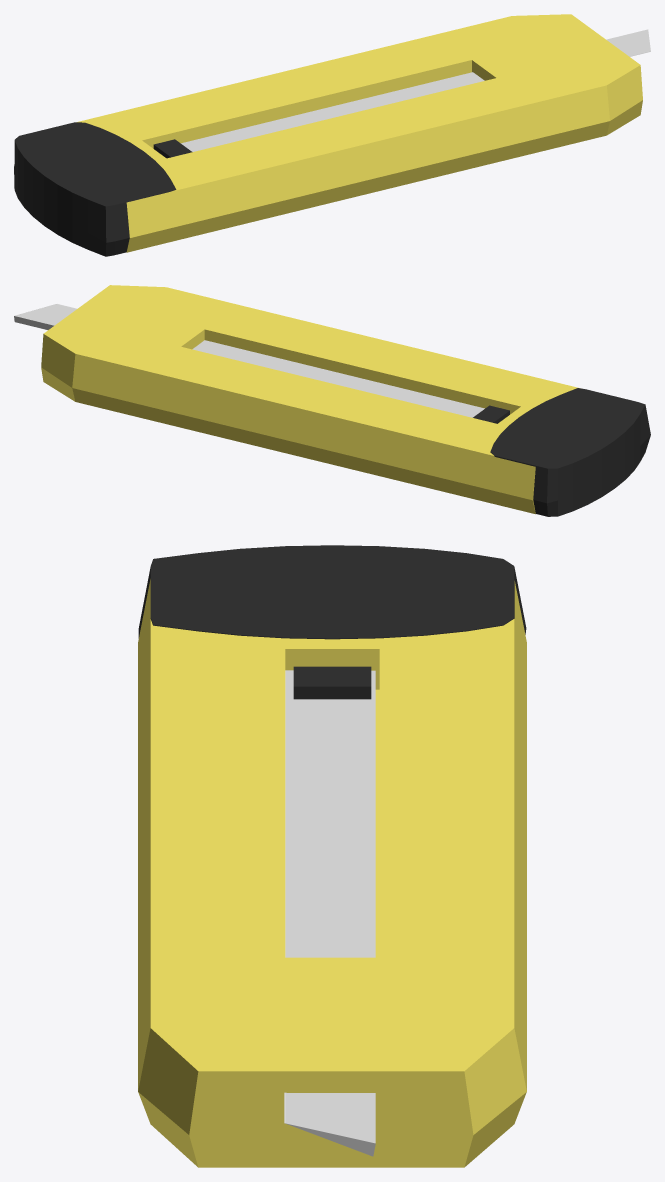
The model's file is PenKnife.fbx.
3 views of the same model, one above another, from view 1: azimuth 30°, elevation 25°; view 2: azimuth 150°, elevation 25°; view 3: azimuth 270°, elevation 25° (orthographic). The views are drawn at different scales.
Visible parts, largest first — view 1: Cube.001, Cube; view 2: Cube.001, Cube; view 3: Cube.001, Cube.
Boxes of the visible parts, bbox=[...] form: Cube.001: bbox=[14, 14, 642, 256]; Cube: bbox=[153, 29, 650, 158]; Cube.001: bbox=[41, 285, 650, 516]; Cube: bbox=[14, 304, 509, 423]; Cube.001: bbox=[138, 545, 526, 1167]; Cube: bbox=[284, 666, 375, 1156].
Bounding box in the file's own units: 204 × 16.06 × 58.31.
